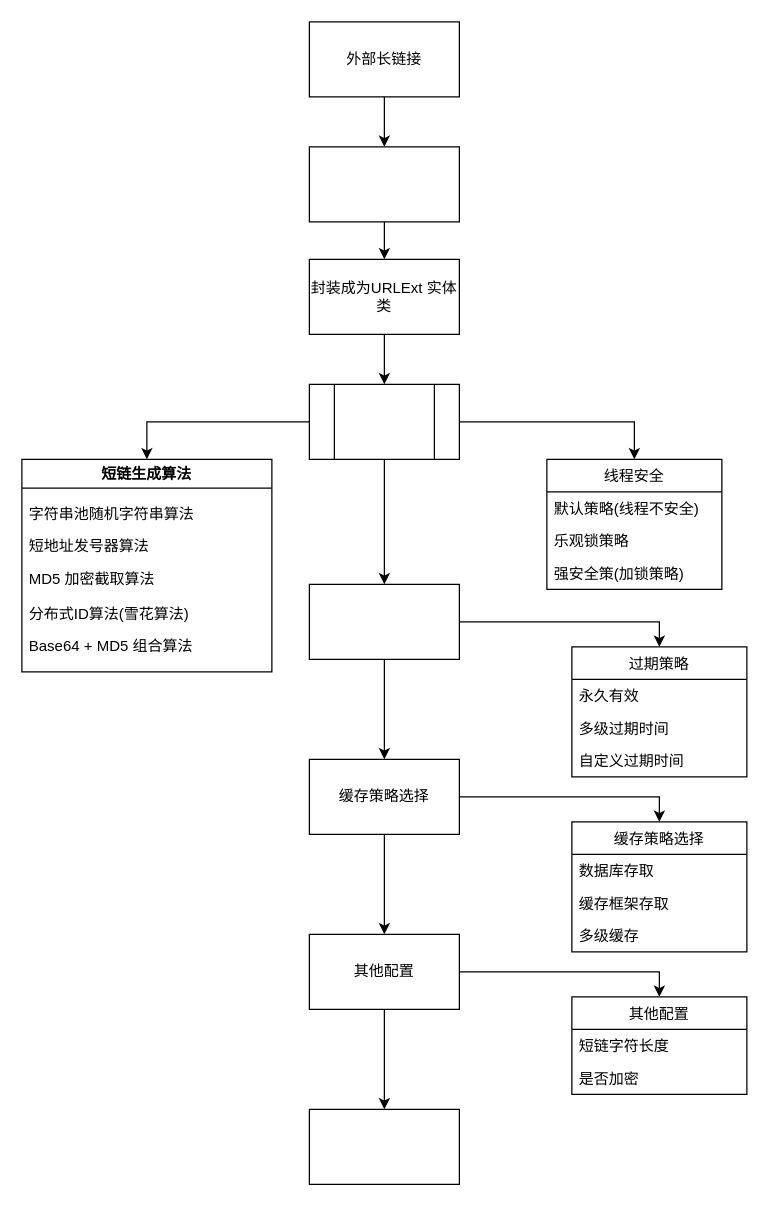
Image size: 769x1206. Some labels were removed from this diagram. Each missing label, with the centre of its shape:
"生成 ShortURL 类" belongs at [383,1146].
"缓存查询 数据库查询" belongs at [383,184].
"过期策略选择" belongs at [383,621].
"选择生成策略" belongs at [383,421].
